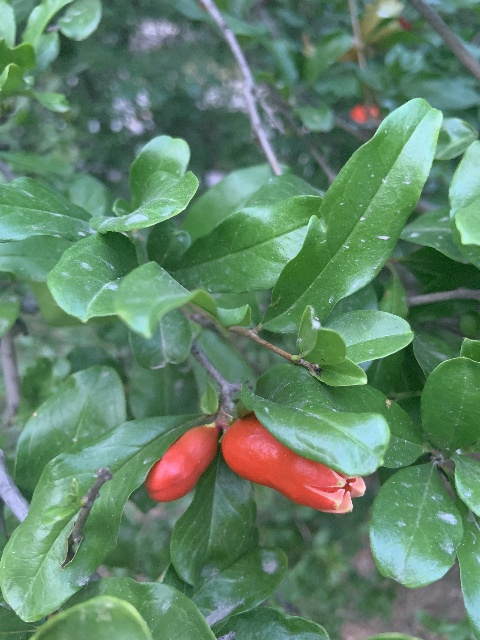bud: (145, 423, 218, 503)
flower: (222, 412, 365, 513)
